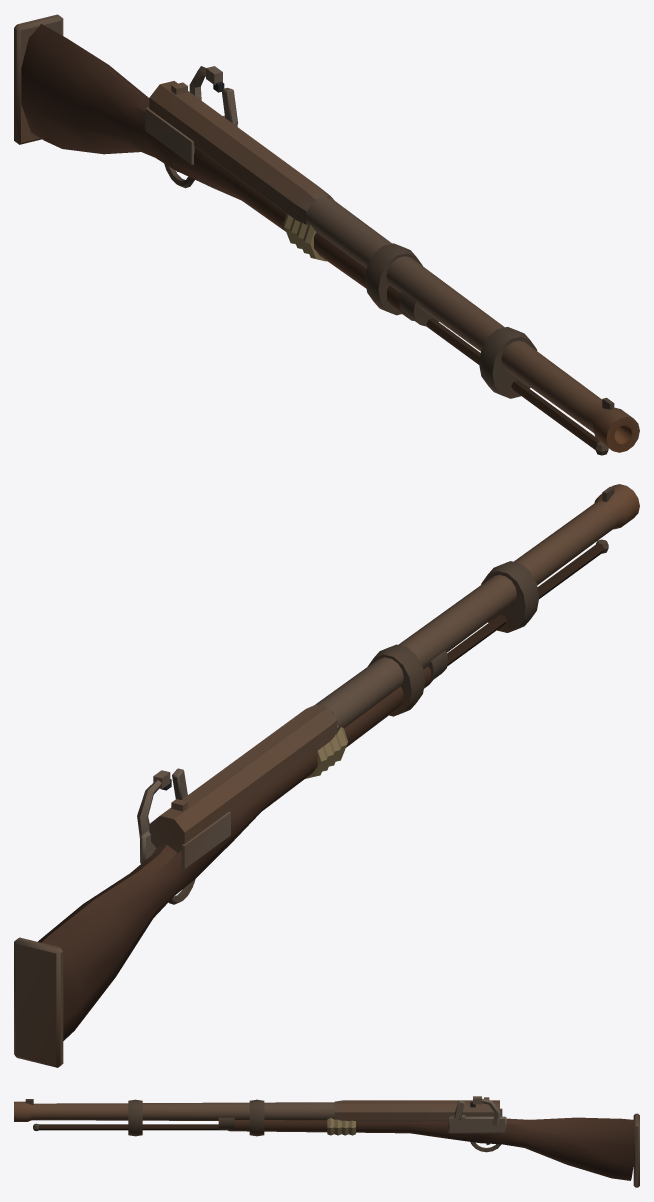
File: weapon_musket_rusty_hi.glb
3 views of the same model, one above another, from view 1: azimuth 30°, elevation 25°; view 2: azimuth 150°, elevation 25°; view 3: azimuth 270°, elevation 25° (orthographic). The views are drawn at different scales.
Visible parts, largest first — view 1: weapon_musket_rusty_hi; view 2: weapon_musket_rusty_hi; view 3: weapon_musket_rusty_hi.
Part boxes in pixels (x1,y1,x2,y2): weapon_musket_rusty_hi: (14, 14, 639, 455); weapon_musket_rusty_hi: (14, 484, 639, 1067); weapon_musket_rusty_hi: (14, 1096, 639, 1187).
Bounding box in the file's own units: 0.0767 × 0.2245 × 1.39.
